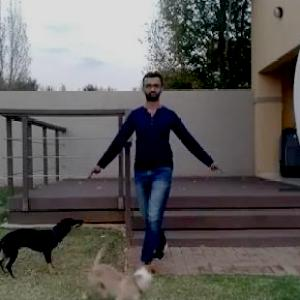land: (111, 84, 200, 250)
